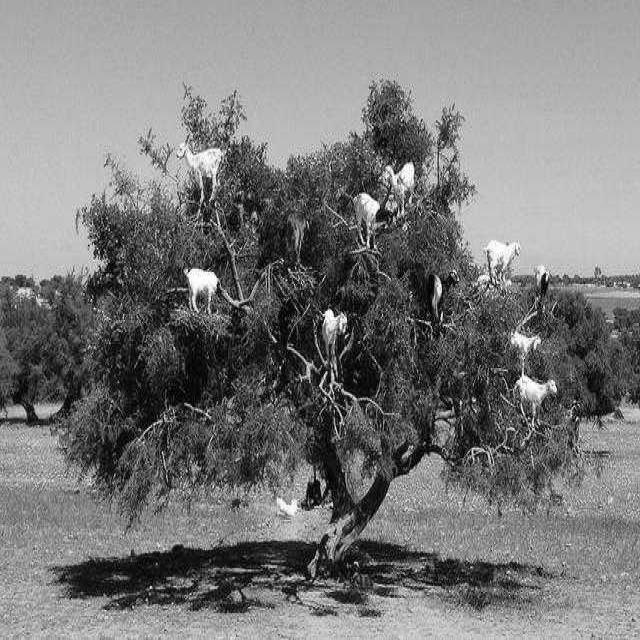Tree: (61, 83, 624, 572)
